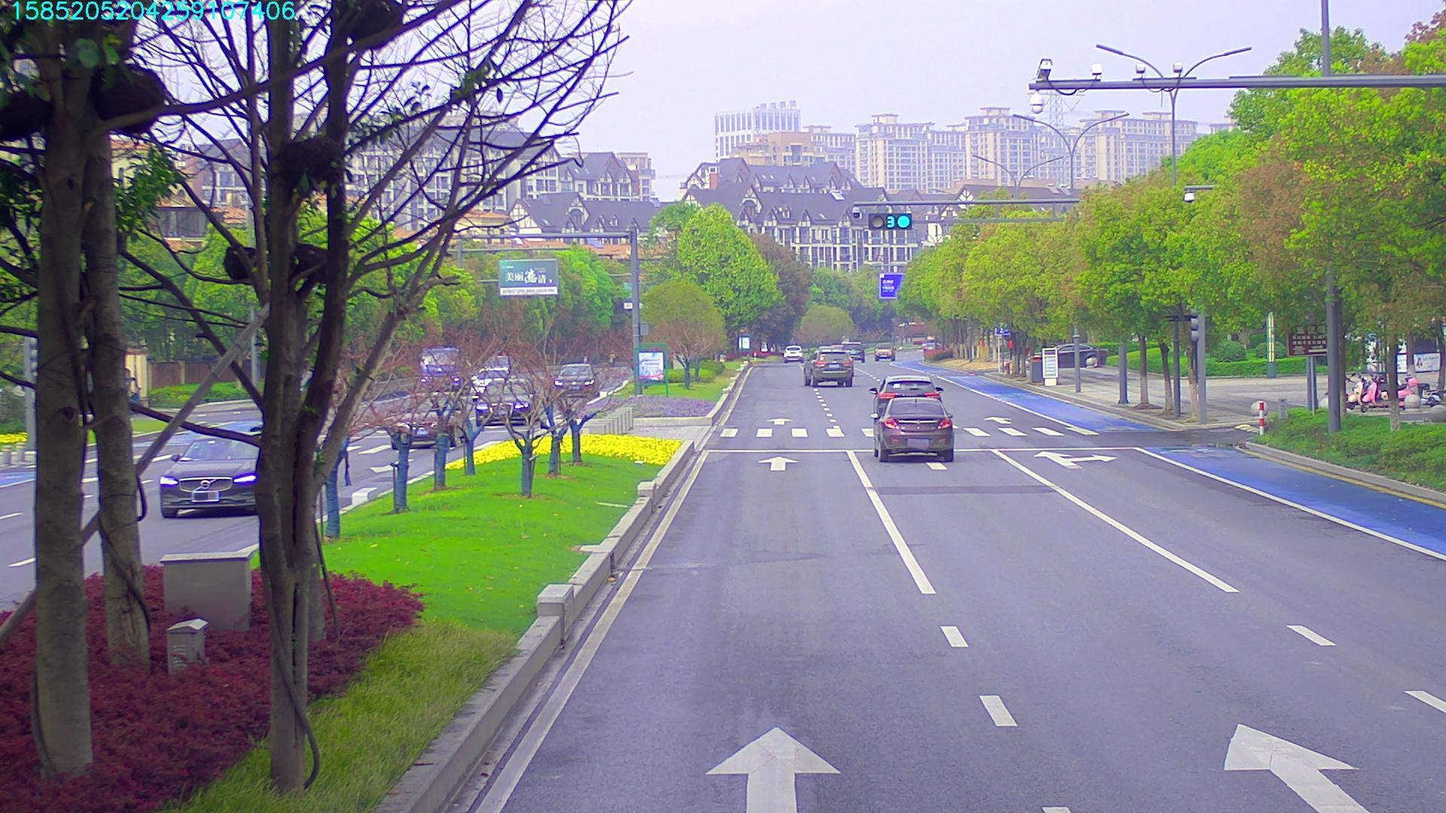green: (868, 212, 911, 229)
